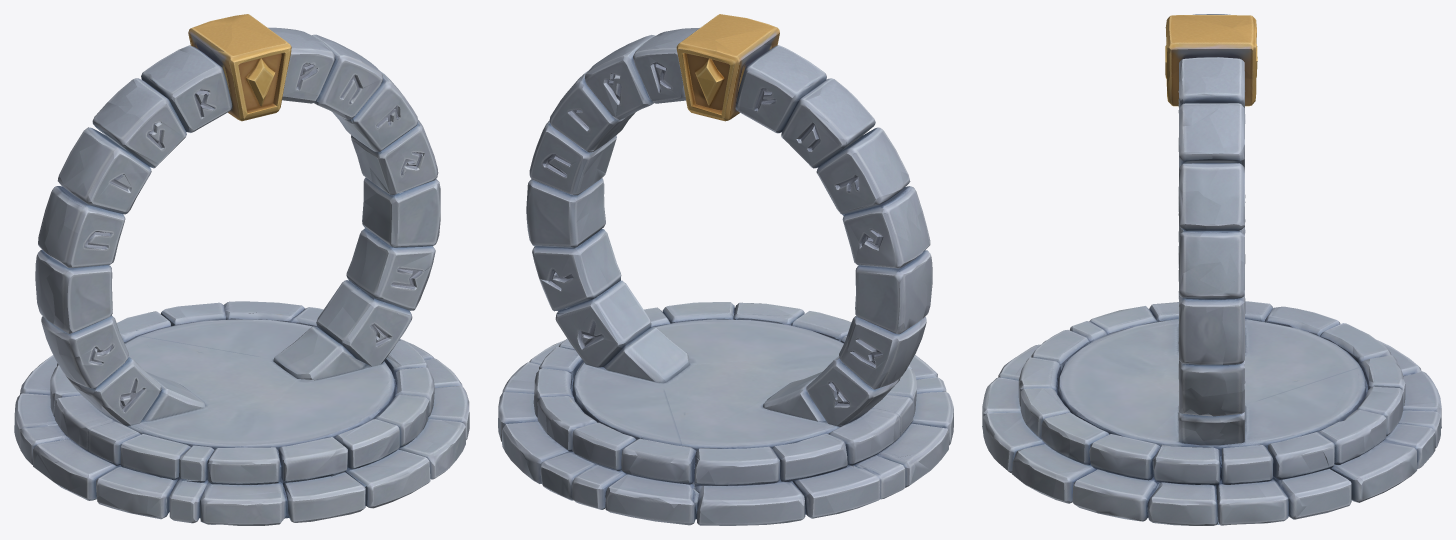
The model's file is portal_ring.glb.
3 views of the same model, side by side, from view 1: azimuth 30°, elevation 25°; view 2: azimuth 150°, elevation 25°; view 3: azimuth 270°, elevation 25° (orthographic).
Visible parts, largest first — view 1: output_unwrapped; view 2: output_unwrapped; view 3: output_unwrapped.
Part boxes in pixels (x1,y1,x2,y2): output_unwrapped: (14, 14, 469, 525); output_unwrapped: (498, 14, 953, 525); output_unwrapped: (982, 14, 1441, 525).
Size of the model in its own units: 1.9 by 1.84 by 1.9.
1 material, 1 textured.
